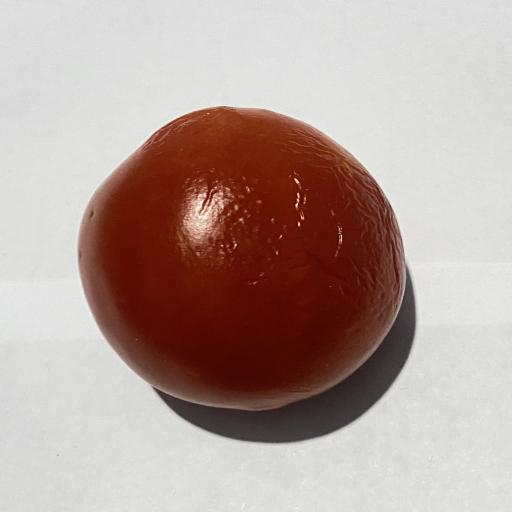spoiled: (79, 107, 405, 410)
